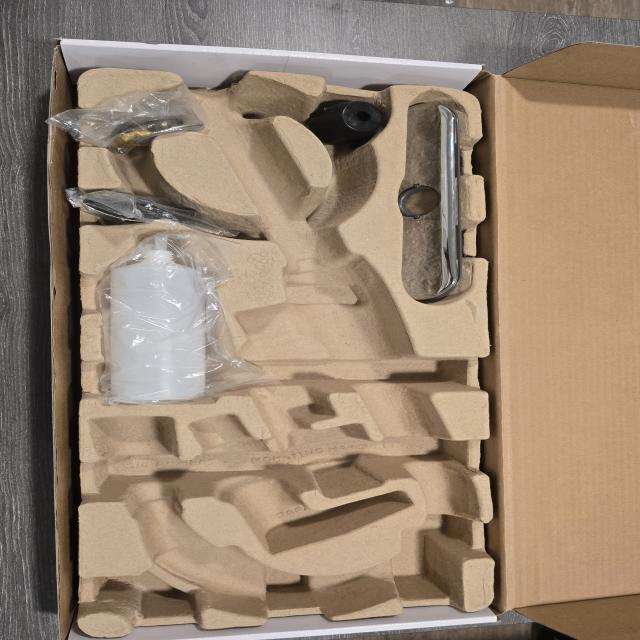1m: (90, 73, 477, 613)
2m: (192, 413, 408, 557)
3: (107, 234, 205, 405)
4: (396, 101, 462, 301)
5: (306, 101, 388, 145)
6: (42, 84, 207, 155)
7: (66, 187, 242, 236)
